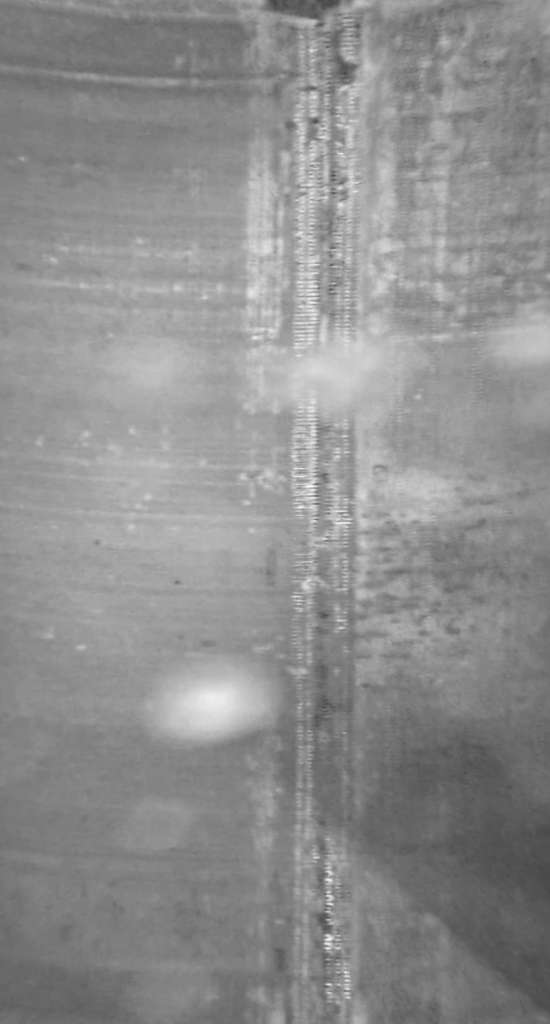splice: (267, 3, 366, 1024)
